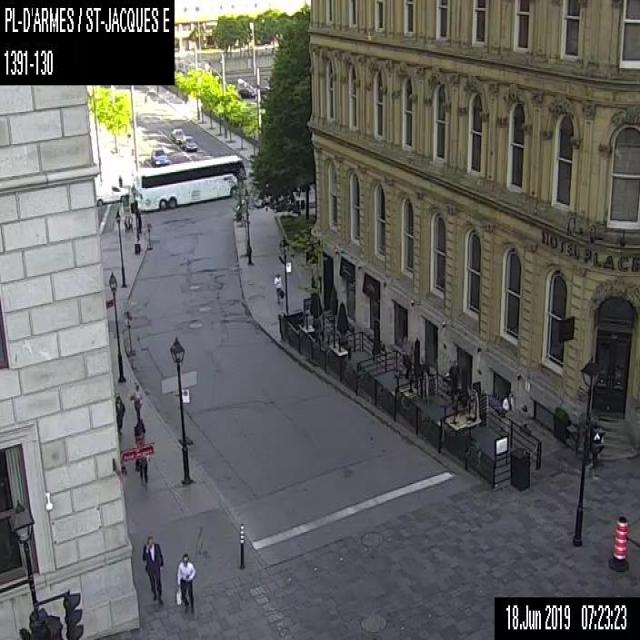bus: (134, 154, 245, 210)
construction: (606, 513, 628, 571)
pedestrian: (141, 534, 163, 606), (173, 551, 196, 614), (134, 456, 151, 488), (130, 385, 144, 420), (114, 394, 124, 436), (272, 271, 284, 302), (133, 419, 145, 444), (127, 210, 133, 232), (123, 213, 128, 236), (130, 181, 134, 199), (117, 173, 122, 186)
vehicle: (94, 180, 129, 205), (150, 147, 168, 165), (180, 135, 198, 151), (170, 127, 185, 143), (237, 87, 255, 98)
